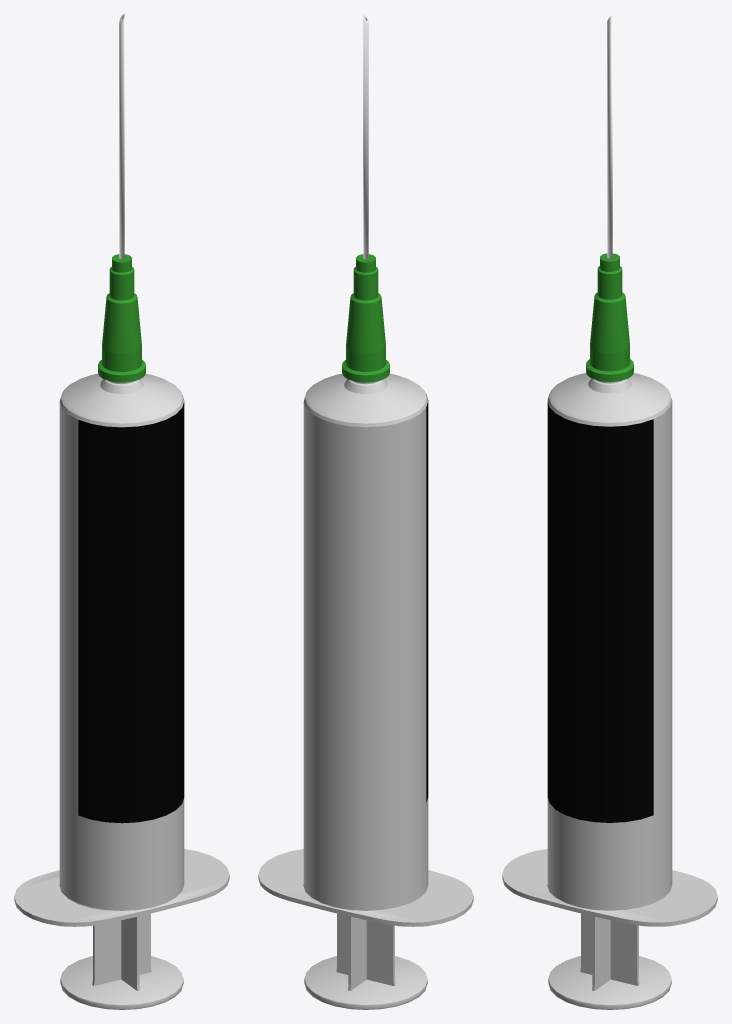
Rendered from Syringe.fbx.
The picture shows the model from 3 angles, left to right: view 1: azimuth 30°, elevation 25°; view 2: azimuth 150°, elevation 25°; view 3: azimuth 330°, elevation 25°; orthographic projection.
Parts seen in each view (by area): view 1: Object_2, Object_6, Object_4, Object_5; view 2: Object_6, Object_4, Object_5, Object_2; view 3: Object_2, Object_6, Object_4, Object_5.
Boxes of the visible parts, x1,y1,x2,y2 form: Object_2: (78,395,184,823); Object_6: (14,373,229,1009); Object_4: (98,254,145,382); Object_5: (119,14,124,259); Object_6: (258,373,473,1009); Object_4: (342,254,389,382); Object_5: (363,14,368,259); Object_2: (426,394,428,802); Object_2: (547,394,653,822); Object_6: (502,373,717,1009); Object_4: (586,253,633,381); Object_5: (607,14,612,258).
Size of the model in its own units: 4.98 by 23.28 by 2.76.
5 materials, 1 textured.
